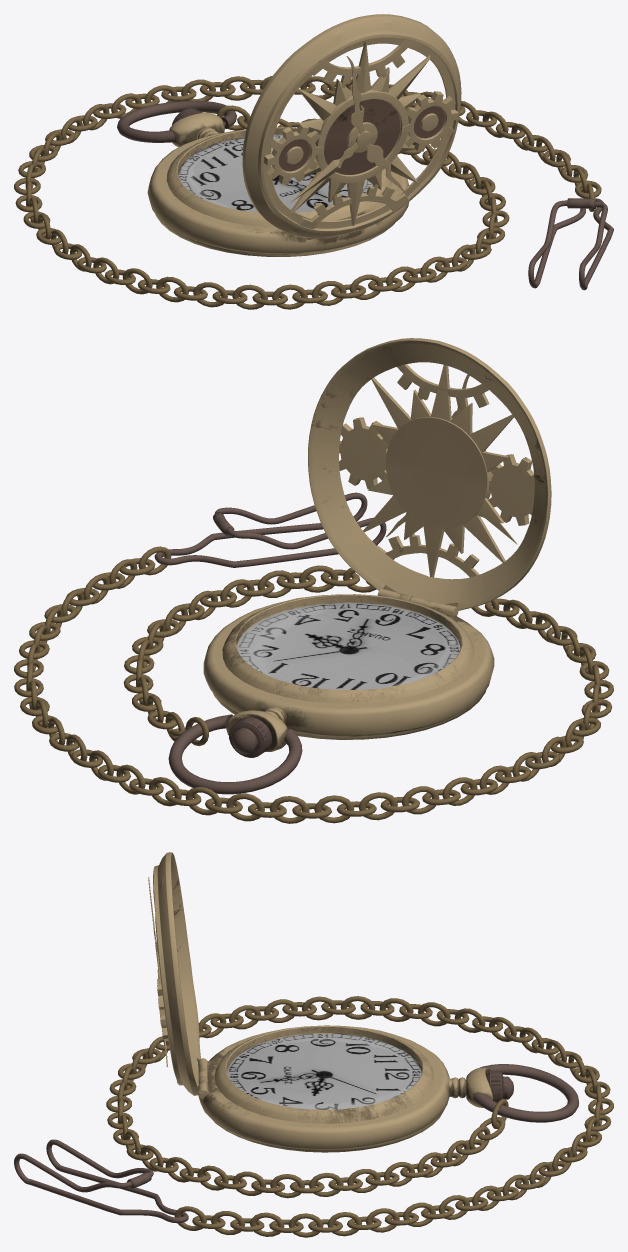
File: sxecrddfafdasfasfsdafasdfsadfsdf.fbx
3 views of the same model, one above another, from view 1: azimuth 30°, elevation 25°; view 2: azimuth 150°, elevation 25°; view 3: azimuth 270°, elevation 25° (orthographic). The views are drawn at different scales.
Parts seen in each view (by area): view 1: polySurface2269, GlassHolder_lo, MiddleBasePiece_lo, polySurface2274, polySurface2256, ChainPin_lo, polySurface2265, ChainRing_lo, polySurface2251, polySurface2268, Backing_lo, polySurface2259 (+8 smaller); view 2: GlassHolder_lo, polySurface2269, MiddleBasePiece_lo, polySurface2274, ChainPin_lo, ChainRing_lo, polySurface2265, polySurface2256, polySurface2251, polySurface2268, TopGear_lo, Backing_lo (+4 smaller); view 3: GlassHolder_lo, MiddleBasePiece_lo, polySurface2269, ChainPin_lo, ChainRing_lo, Backing_lo.
Boxes of the visible parts, x1=… form: polySurface2269: x1=242, y1=14, x2=461, y2=238; GlassHolder_lo: x1=166, y1=127, x2=391, y2=227; MiddleBasePiece_lo: x1=147, y1=112, x2=409, y2=253; polySurface2274: x1=315, y1=89, x2=408, y2=182; polySurface2256: x1=263, y1=124, x2=324, y2=184; ChainPin_lo: x1=528, y1=198, x2=613, y2=290; polySurface2265: x1=400, y1=91, x2=458, y2=151; ChainRing_lo: x1=117, y1=100, x2=236, y2=142; polySurface2251: x1=310, y1=39, x2=419, y2=88; polySurface2268: x1=297, y1=184, x2=409, y2=229; Backing_lo: x1=155, y1=214, x2=395, y2=256; polySurface2259: x1=291, y1=142, x2=358, y2=202; GlassHolder_lo: x1=222, y1=594, x2=474, y2=703; polySurface2269: x1=308, y1=338, x2=551, y2=610; MiddleBasePiece_lo: x1=203, y1=588, x2=494, y2=751; polySurface2274: x1=386, y1=417, x2=492, y2=528; ChainPin_lo: x1=154, y1=492, x2=386, y2=567; ChainRing_lo: x1=168, y1=714, x2=302, y2=794; polySurface2265: x1=339, y1=417, x2=388, y2=488; polySurface2256: x1=488, y1=454, x2=534, y2=525; polySurface2251: x1=397, y1=364, x2=489, y2=409; polySurface2268: x1=377, y1=533, x2=479, y2=577; TopGear_lo: x1=229, y1=716, x2=271, y2=757; Backing_lo: x1=213, y1=690, x2=486, y2=739; GlassHolder_lo: x1=214, y1=1026, x2=433, y2=1123; MiddleBasePiece_lo: x1=198, y1=1025, x2=493, y2=1149; polySurface2269: x1=153, y1=852, x2=201, y2=1095; ChainPin_lo: x1=14, y1=1139, x2=188, y2=1223; ChainRing_lo: x1=473, y1=1064, x2=578, y2=1122; Backing_lo: x1=213, y1=1112, x2=442, y2=1152.
Size of the model in its own units: 621 by 318 by 685.
